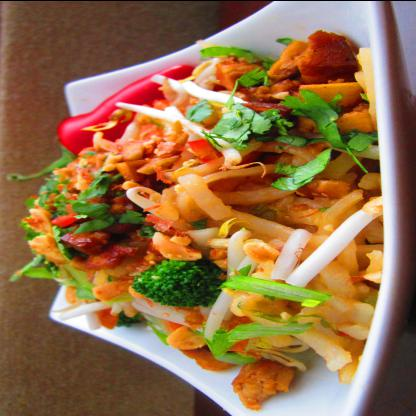Pad Thai: (27, 51, 393, 395)
